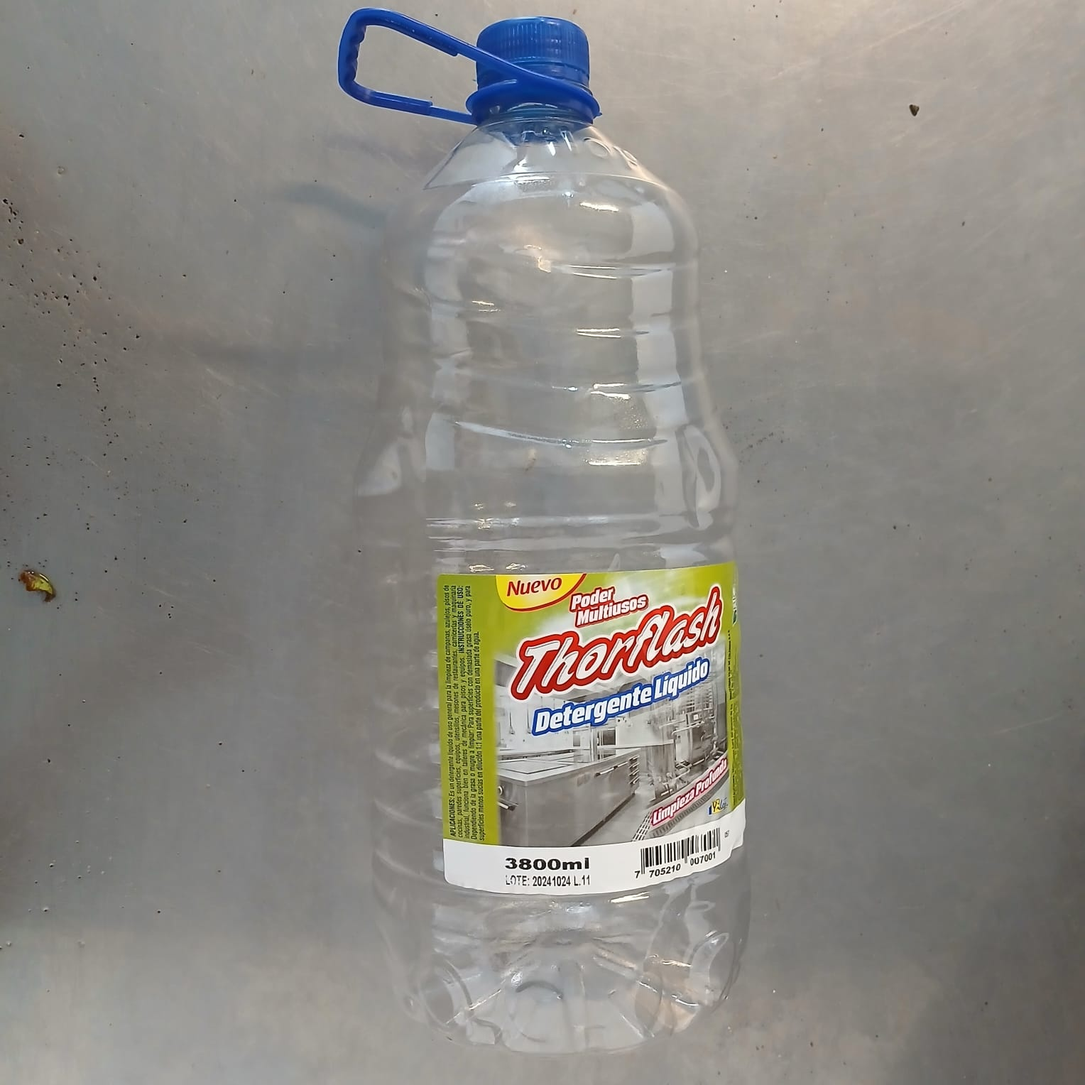Plastico: (337, 3, 749, 1050)
